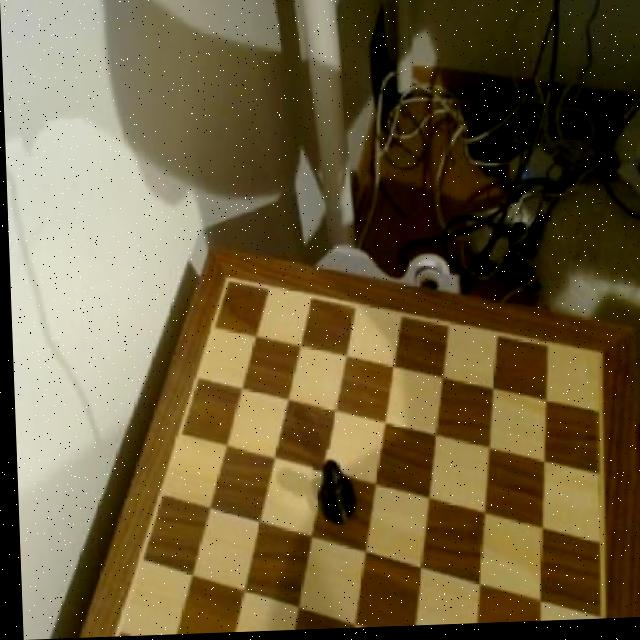black-knight: (308, 450, 354, 535)
